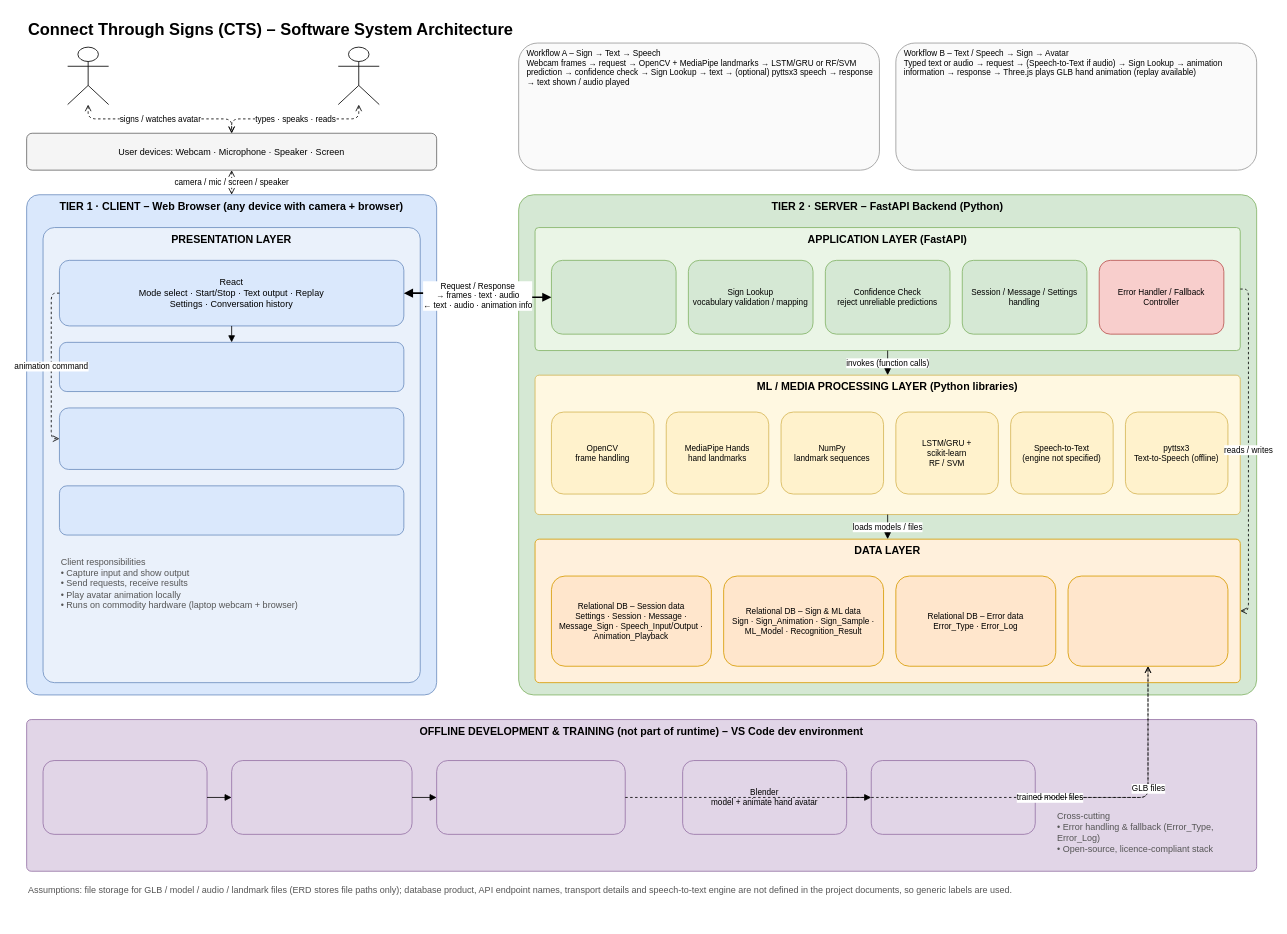
Image size: 1287x934. Some labels were removed from this diagram. The shapes that lost their labels are listed below. From the top down, each one's centre as x and y in pixels, then its label:
At point (88, 75): "ASL User".
At point (358, 75): "Non-Signing User".
At point (613, 297): "API Endpoints sign · text · speech requests".
At point (231, 367): "Capture Webcam frames · Microphone audio · Typed text".
At point (231, 438): "Three.js Renders glTF/GLB 3D hand-avatar animations".
At point (231, 510): "Audio playback · Error / retry messages".
At point (1147, 620): "File Storage GLB animations · trained model files · audio · landmark files".
At point (124, 797): "Datasets WLASL (public) + newly recorded samples".
At point (321, 797): "Dataset Preprocessor OpenCV · MediaPipe · NumPy → landmark sequences".
At point (530, 797): "Model Trainer LSTM/GRU vs scikit-learn RF/SVM (compare accuracy, speed)".
At point (952, 797): "glTF/GLB export animation clips".
